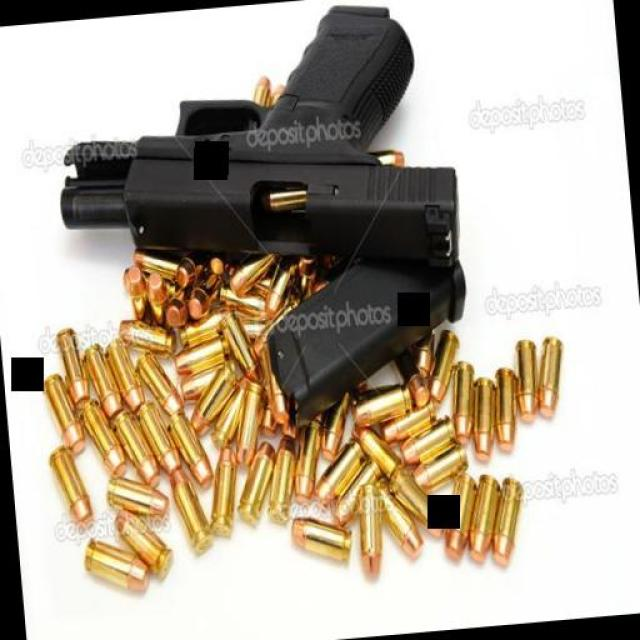gun: (33, 0, 485, 284)
